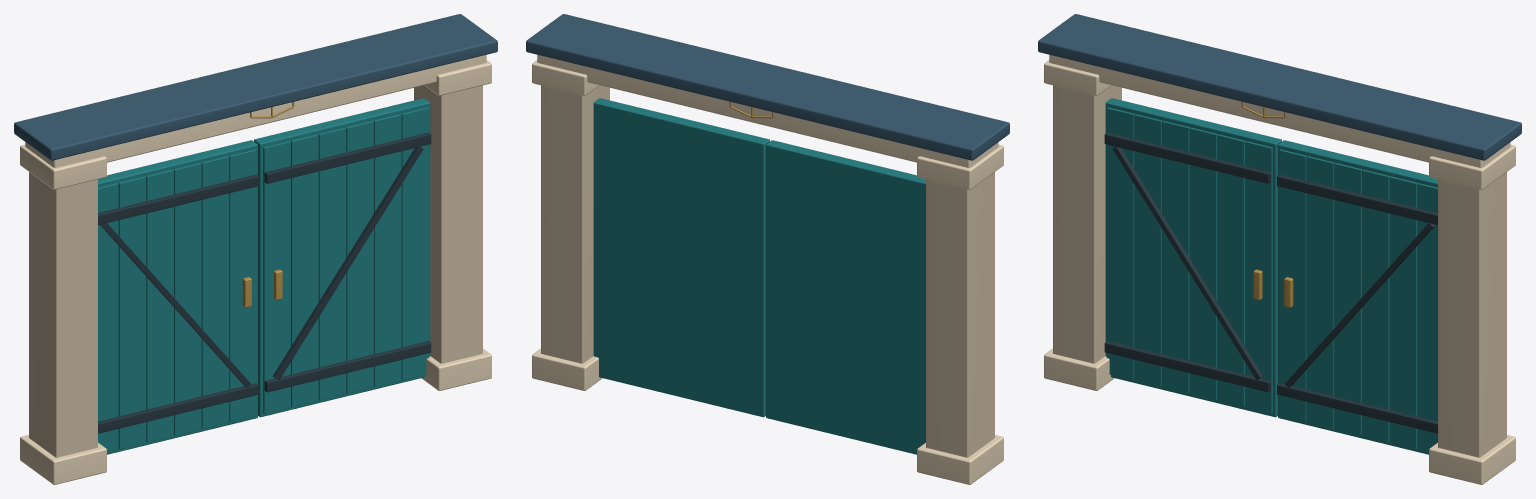
The model's file is CourtyardGate_4m.fbx.
3 renders of one model, left to right at view 1: azimuth 30°, elevation 25°; view 2: azimuth 150°, elevation 25°; view 3: azimuth 330°, elevation 25°, orthographic.
Visible parts, largest first — view 1: CourtyardGate_4m.001; view 2: CourtyardGate_4m.001; view 3: CourtyardGate_4m.001.
Boxes of the visible parts, bbox=[...] form: CourtyardGate_4m.001: bbox=[14, 14, 497, 484]; CourtyardGate_4m.001: bbox=[526, 14, 1009, 484]; CourtyardGate_4m.001: bbox=[1038, 14, 1521, 484].
Bounding box in the file's own units: 4.65 × 3.36 × 0.68.
